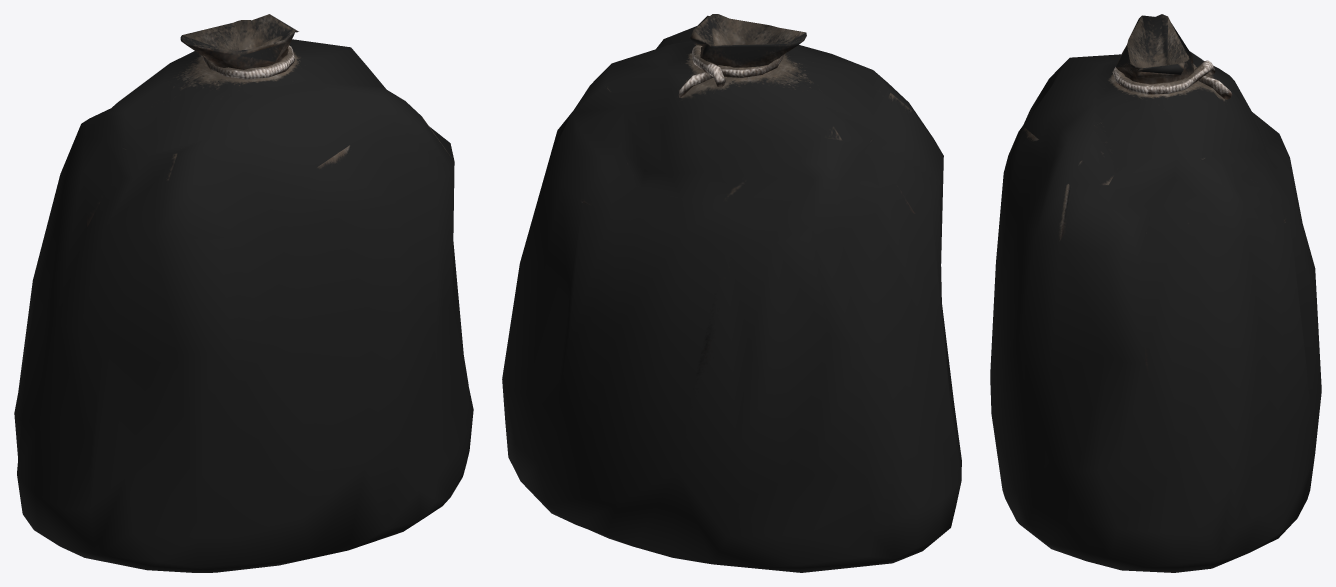
Rendered from garbage_sack.glb.
3 renders of one model, left to right at view 1: azimuth 30°, elevation 25°; view 2: azimuth 150°, elevation 25°; view 3: azimuth 270°, elevation 25°, orthographic. The views are drawn at different scales.
Visible parts, largest first — view 1: Cube; view 2: Cube; view 3: Cube.
Part boxes in pixels (left/top/right/bottom): Cube: left=14, top=14, right=473, bottom=572; Cube: left=502, top=14, right=961, bottom=572; Cube: left=990, top=14, right=1321, bottom=572.
Size of the model in its own units: 51.14 by 56.6 by 37.5.
Materials: 1 (1 with a texture image).
